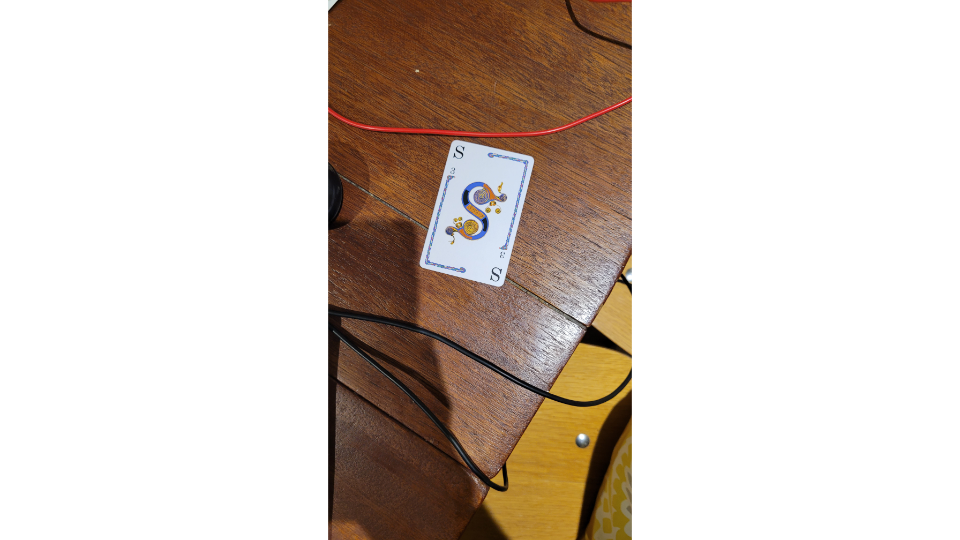S: (417, 134, 538, 293)
